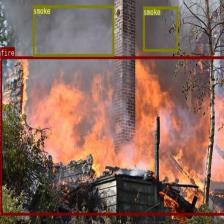fire: (0, 56, 224, 215)
smoke: (33, 5, 114, 56), (143, 6, 178, 51)
